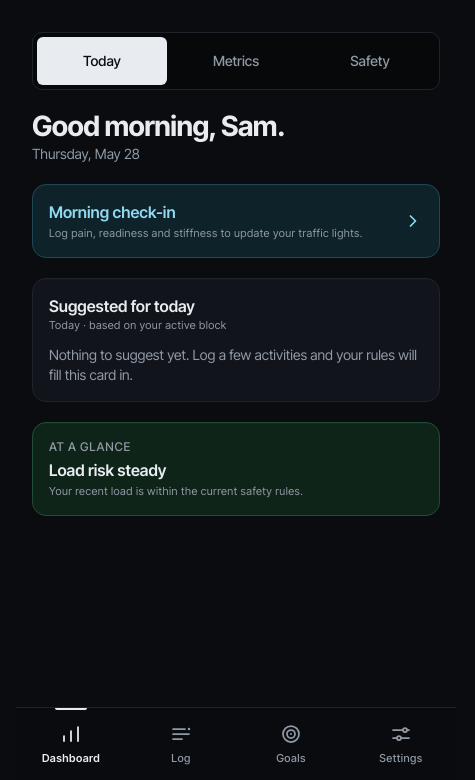
Test: Settings stack navigation (F9.4) › opens edit-block-rules through the visible Settings flow, then pops back out
Click the button "Settings".
click(401, 744)  # box [346,708,456,779]
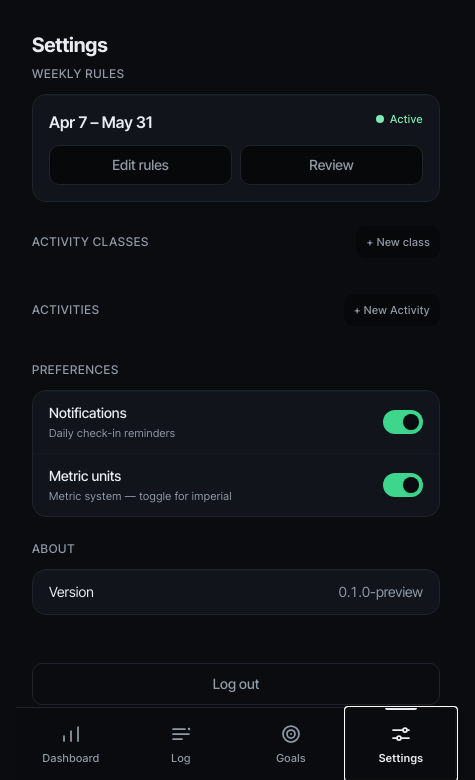
Click the button "Edit rules".
click(140, 165)  # box [49,145,232,185]
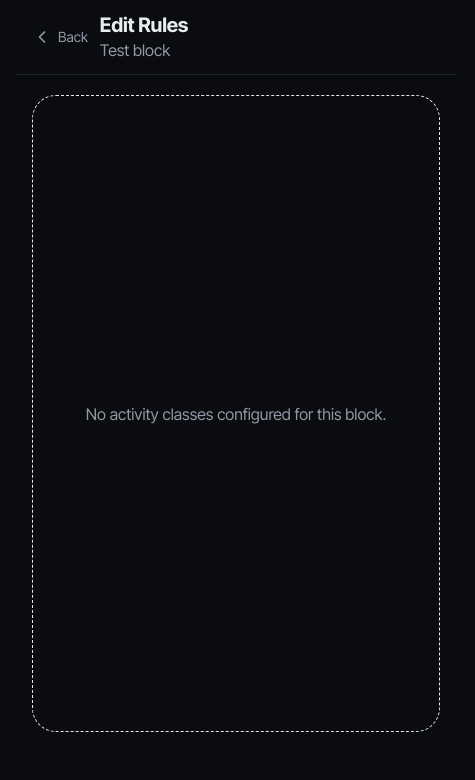
Check: the element with test id "stack-screen-overlay" is shown
Check: the navigation bar "Primary" is gone
Check: the button with aria-label "go back" is shown
Click the button with aria-label "go back".
click(60, 37)  # box [32,23,88,51]
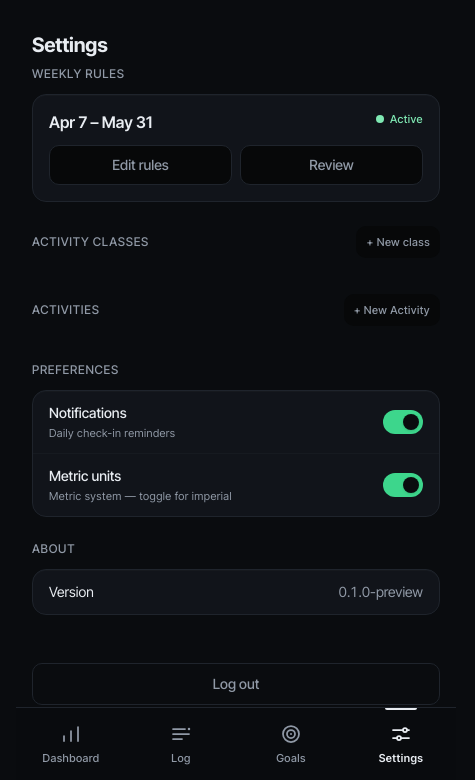
Check: the element with test id "stack-screen-overlay" is gone
Check: the navigation bar named "Primary" is shown, box [16,707,456,779]
